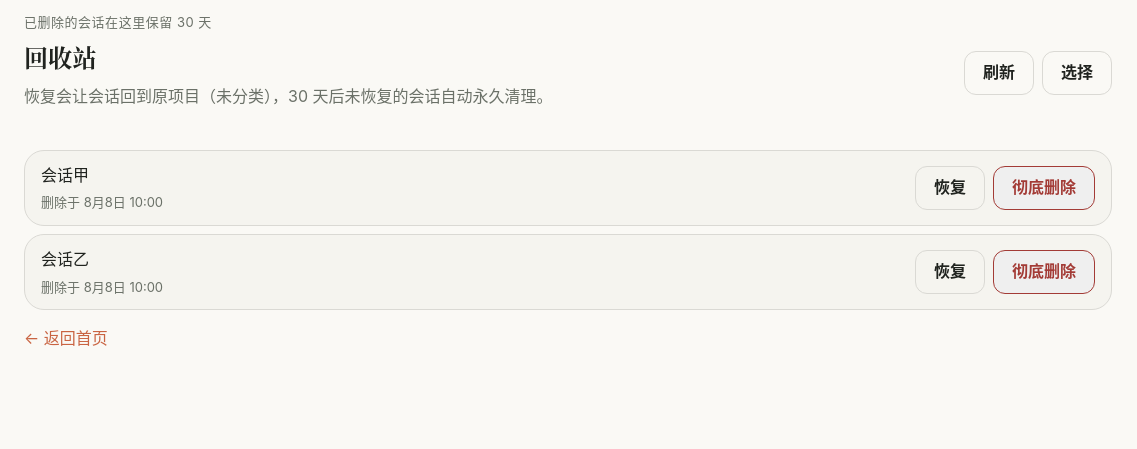
Test: TrashPage 回收站页 › 选择模式：批量恢复
The width and height of the screenshot is (1137, 449).
Click the button "选择" at {"x": 1077, "y": 73}, box [1042,51,1112,95]
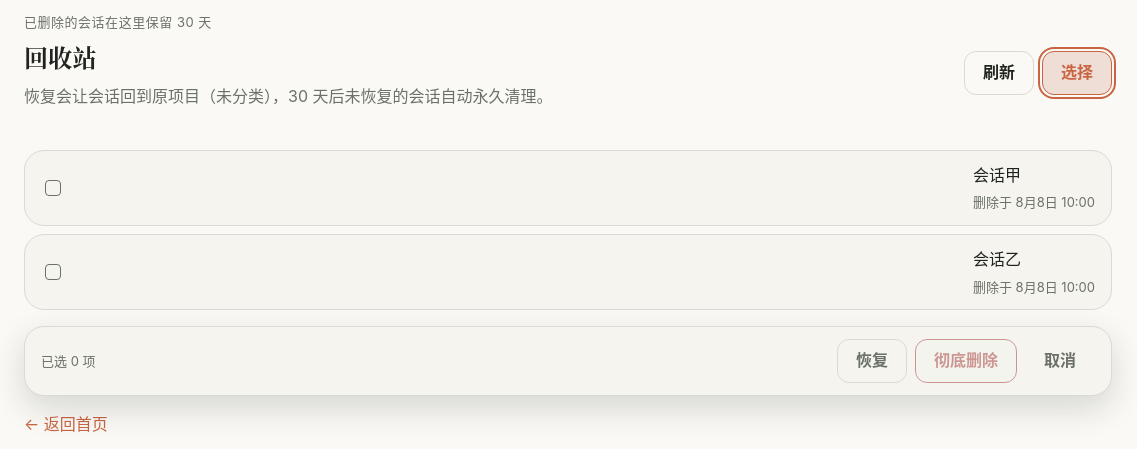
Click the button named "选择会话甲" at {"x": 53, "y": 188}, box [41,176,65,200]
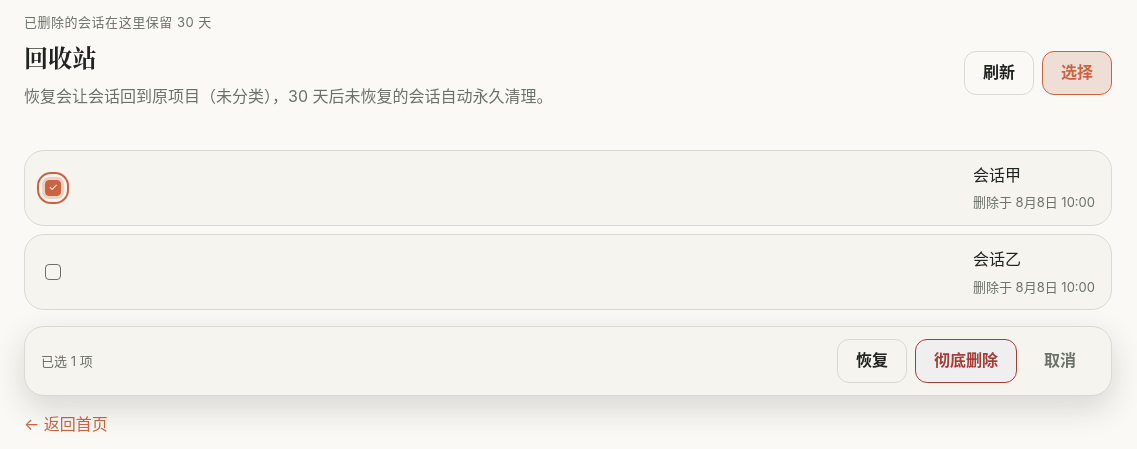
Click the button named "选择会话乙" at {"x": 53, "y": 272}, box [41,260,65,284]
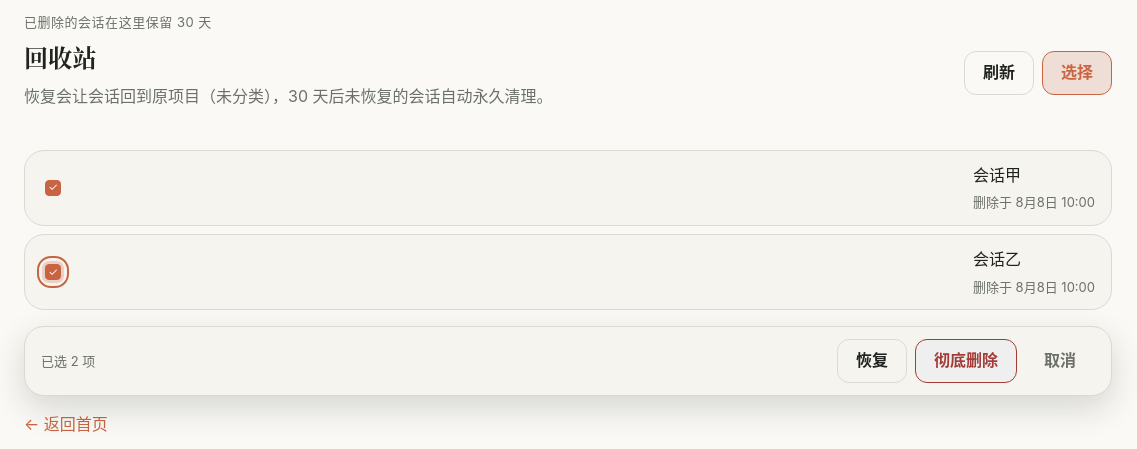
Click the button "恢复" at {"x": 872, "y": 361}, box [837,339,907,383]
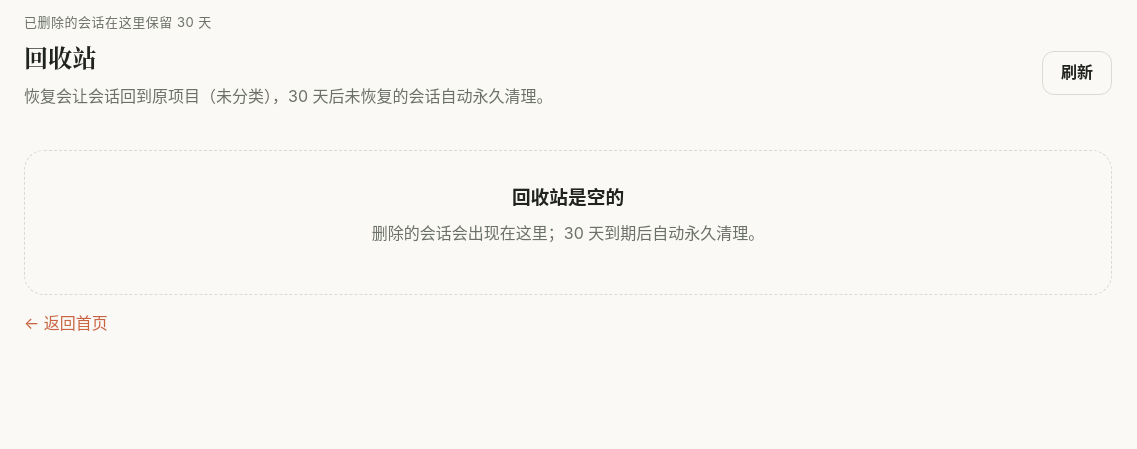
Now the text "已选 2 项" is gone
